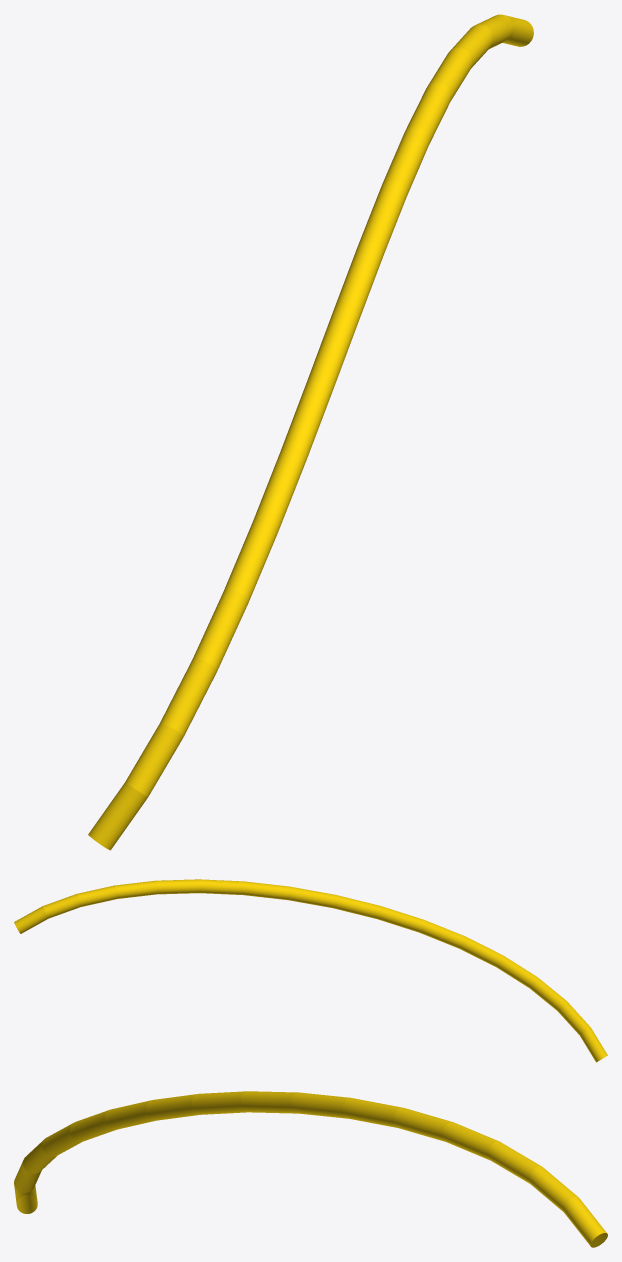
Rendered from Event_420107950_track_70.fbx.
The picture shows the model from 3 angles, top to bottom: view 1: azimuth 30°, elevation 25°; view 2: azimuth 150°, elevation 25°; view 3: azimuth 270°, elevation 25°; orthographic projection. The views are drawn at different scales.
Visible parts, largest first — view 1: Model; view 2: Model; view 3: Model.
Boxes of the visible parts, left/top/right/bottom form: Model: left=88, top=14, right=533, bottom=850; Model: left=14, top=879, right=607, bottom=1062; Model: left=14, top=1091, right=607, bottom=1247.
Bounding box in the file's own units: 1.36 × 0.6631 × 1.12.
